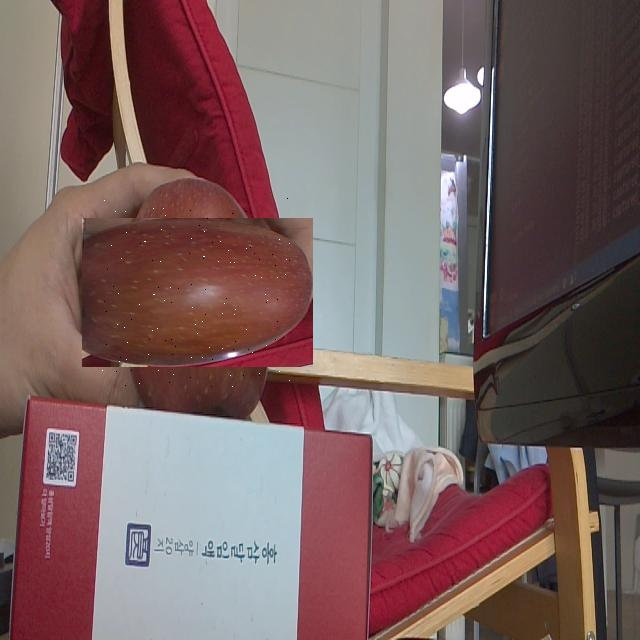apple: (102, 198, 293, 388)
